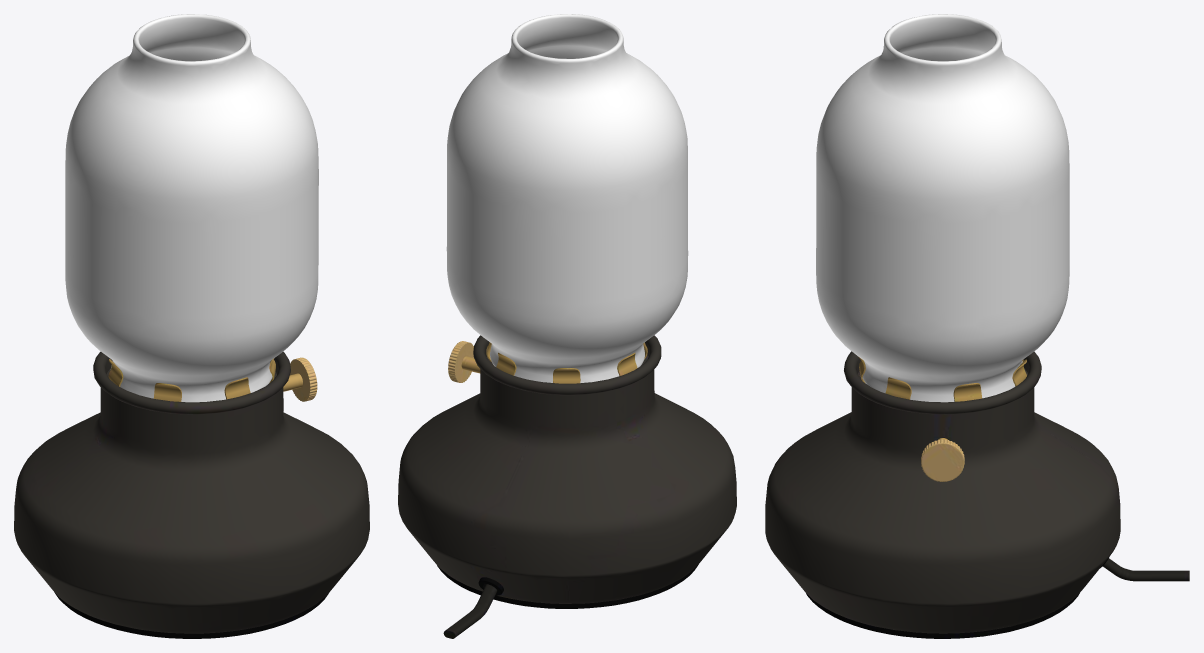
Rendered from tarnaby_lampa_stoowa_60323894.glb.
3 renders of one model, left to right at view 1: azimuth 30°, elevation 25°; view 2: azimuth 150°, elevation 25°; view 3: azimuth 270°, elevation 25°, orthographic. The views are drawn at different scales.
Visible parts, largest first — view 1: tarnaby_lampa_stoowa_60323894; view 2: tarnaby_lampa_stoowa_60323894; view 3: tarnaby_lampa_stoowa_60323894.
Part boxes in pixels (<box>): tarnaby_lampa_stoowa_60323894: <box>14,14,369,638</box>; tarnaby_lampa_stoowa_60323894: <box>398,14,736,638</box>; tarnaby_lampa_stoowa_60323894: <box>765,14,1189,638</box>.
Size of the model in its own units: 0.1459 by 0.2455 by 0.1743.
2 materials, 2 textured.
